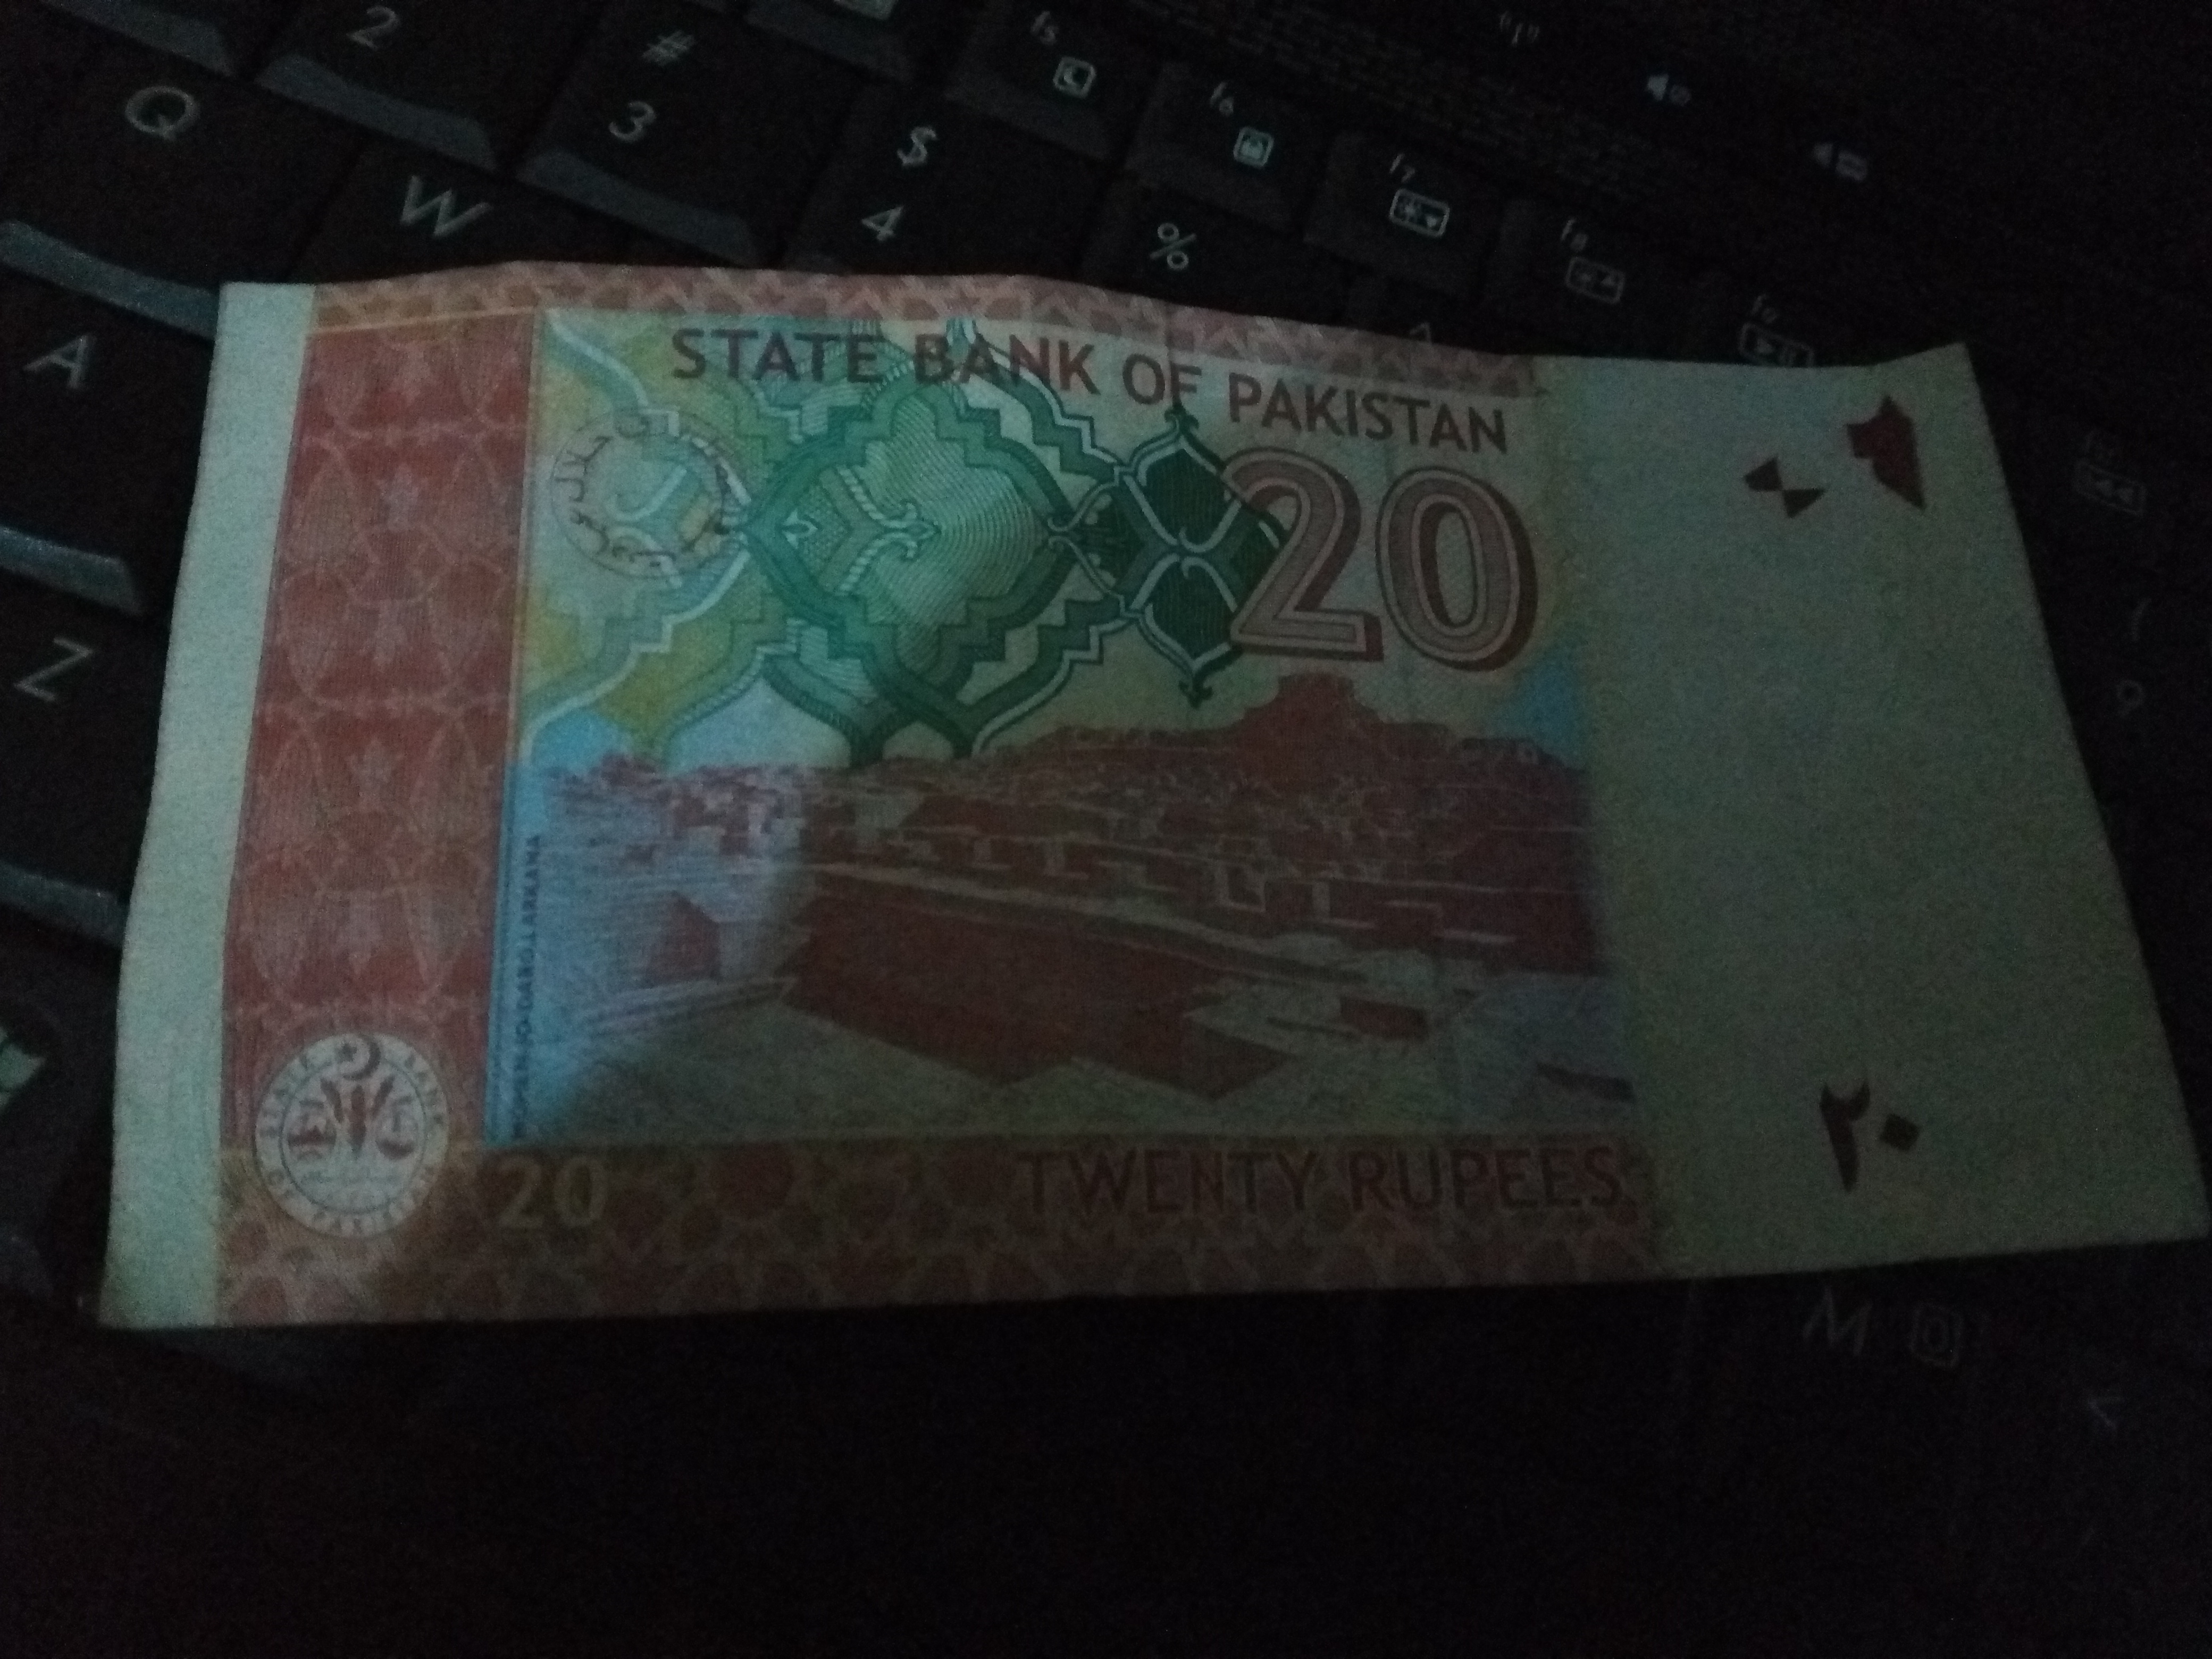20 rupee: (153, 258, 2172, 1342)
